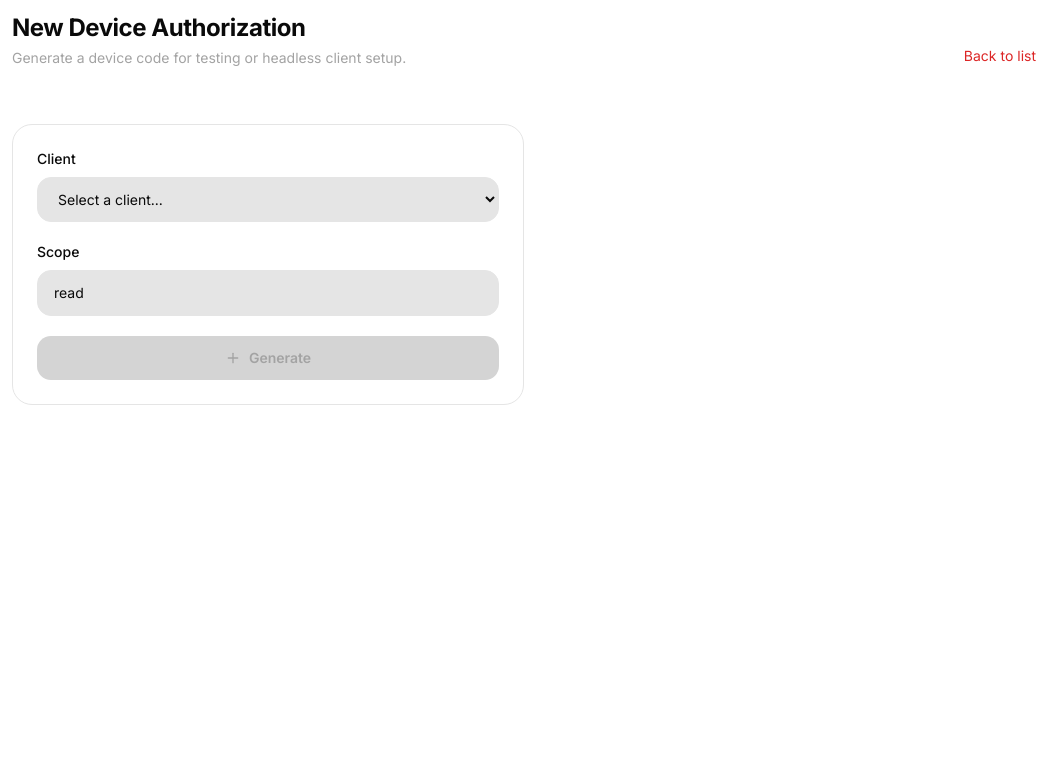
DeviceAuthNewTool › generates a device authorization and shows the codes
Select "App One" in the dropdown: point(268, 200) [37,177,499,222]
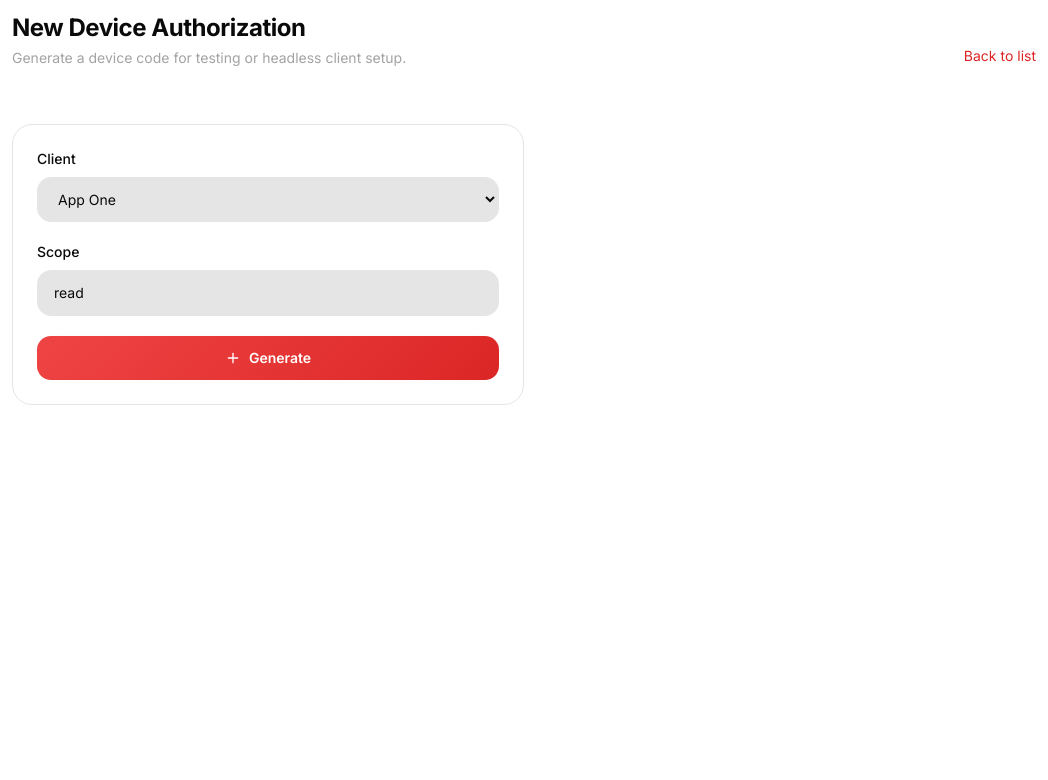
Replace the text in the field with placeholder "read write profile" with "read write": point(268, 293) [37,270,499,316]
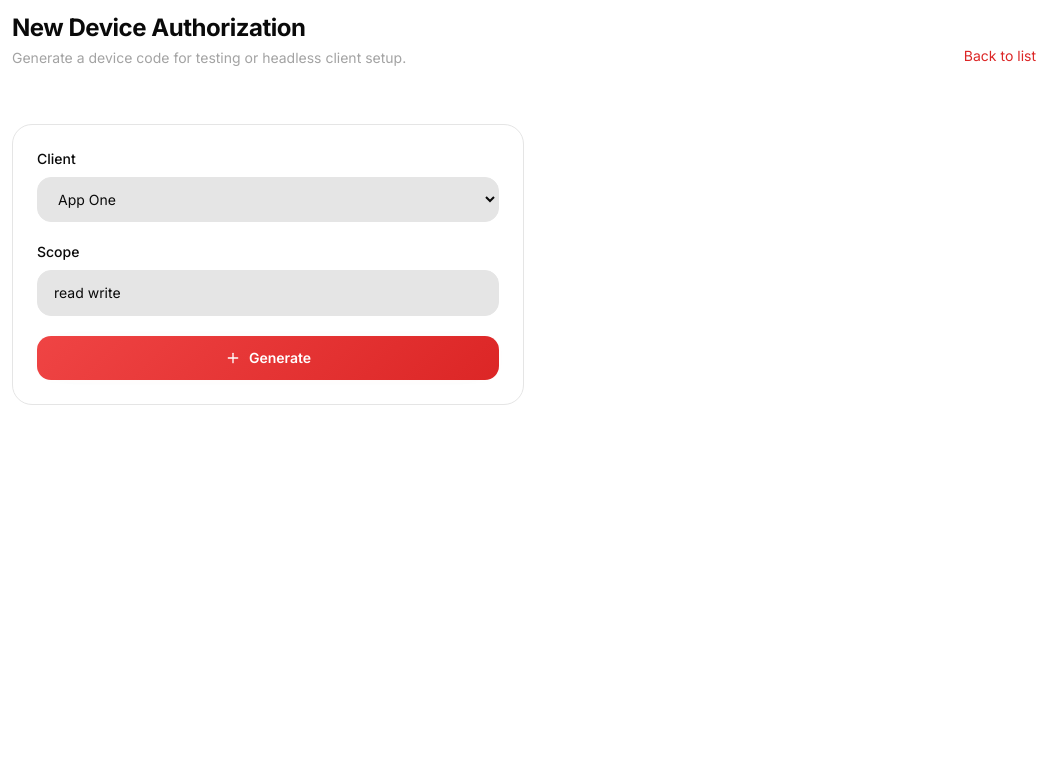
Click the button "Generate": point(268, 358) [37,336,499,380]
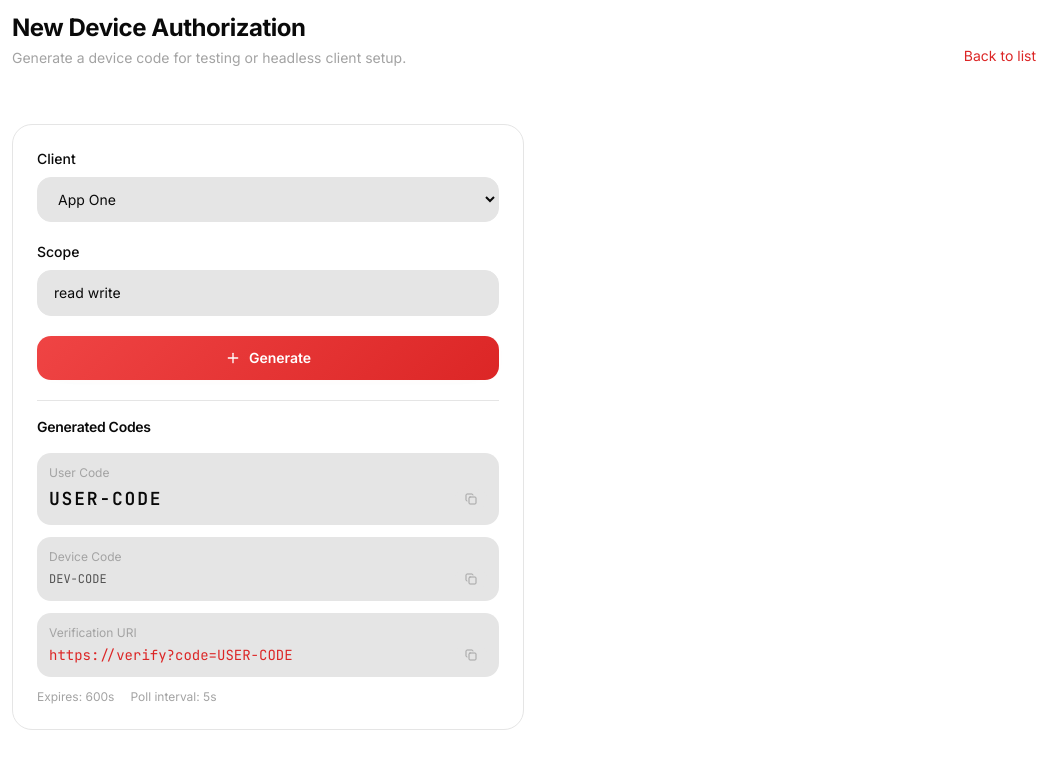
Result: the text "USER-CODE" is shown at [49,485,162,513]
Result: the text "DEV-CODE" is shown at [49,571,107,587]
Result: the text "https://verify?code=USER-CODE" is shown at [49,645,293,665]
